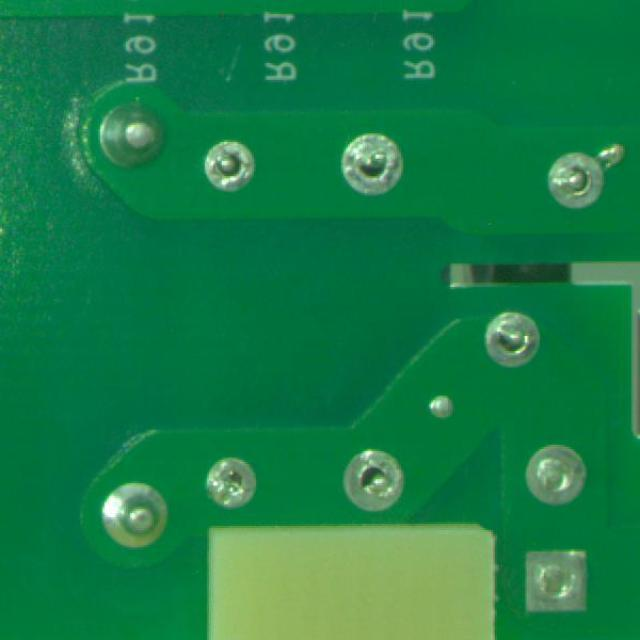Insufficient solder: (338, 119, 428, 202), (186, 120, 266, 207), (540, 138, 624, 218), (336, 440, 419, 520), (472, 302, 552, 369), (207, 446, 269, 516)
